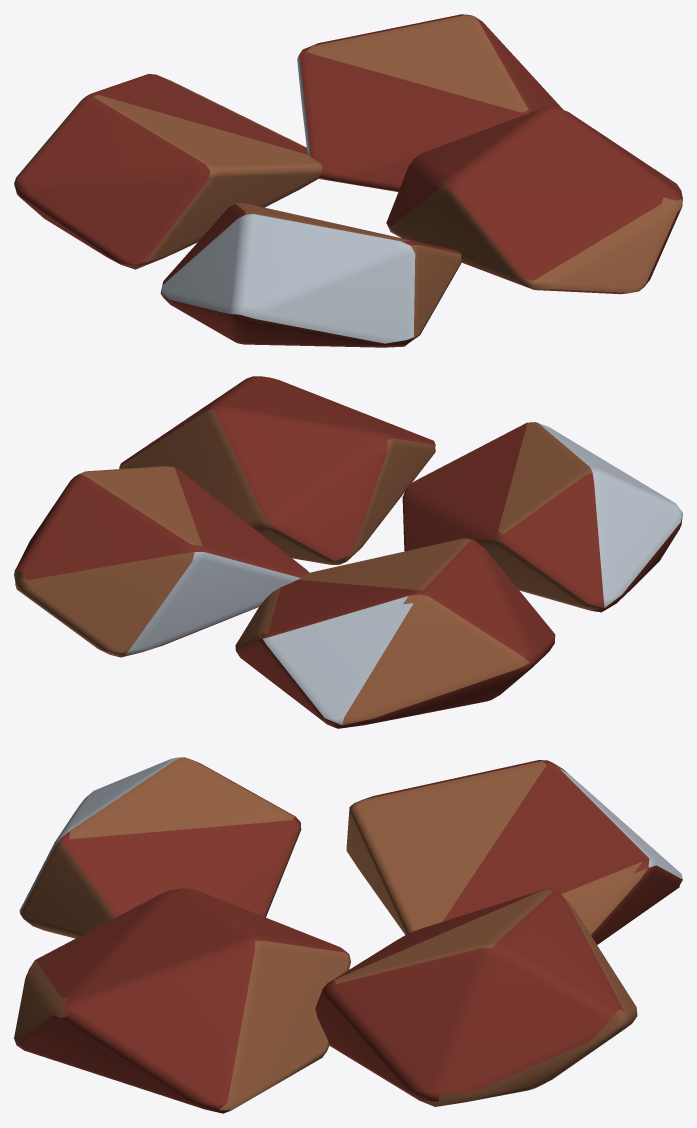
File: minerai_fer_1.glb
3 views of the same model, one above another, from view 1: azimuth 30°, elevation 25°; view 2: azimuth 150°, elevation 25°; view 3: azimuth 270°, elevation 25° (orthographic). The views are drawn at different scales.
Parts seen in each view (by area): view 1: minerai_hematite.004, minerai_rouille.004, minerai_fer_metal.004; view 2: minerai_hematite.004, minerai_rouille.004, minerai_fer_metal.004; view 3: minerai_hematite.004, minerai_rouille.004, minerai_fer_metal.004.
Part boxes in pixels (x1=…): minerai_hematite.004: x1=14, y1=14, x2=682, y2=347; minerai_rouille.004: x1=14, y1=15, x2=682, y2=343; minerai_fer_metal.004: x1=160, y1=52, x2=415, y2=343; minerai_hematite.004: x1=15, y1=376, x2=682, y2=728; minerai_rouille.004: x1=14, y1=409, x2=603, y2=725; minerai_fer_metal.004: x1=125, y1=423, x2=682, y2=725; minerai_hematite.004: x1=16, y1=760, x2=682, y2=1113; minerai_rouille.004: x1=14, y1=757, x2=647, y2=1110; minerai_fer_metal.004: x1=19, y1=757, x2=682, y2=913.
Size of the model in its own units: 0.55 by 0.1123 by 0.5314.
